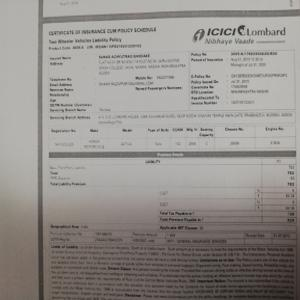image: (185, 25, 287, 48), (49, 28, 155, 50)
table: (47, 150, 297, 232), (51, 121, 298, 148)
text: (45, 50, 293, 108), (122, 30, 124, 31)
